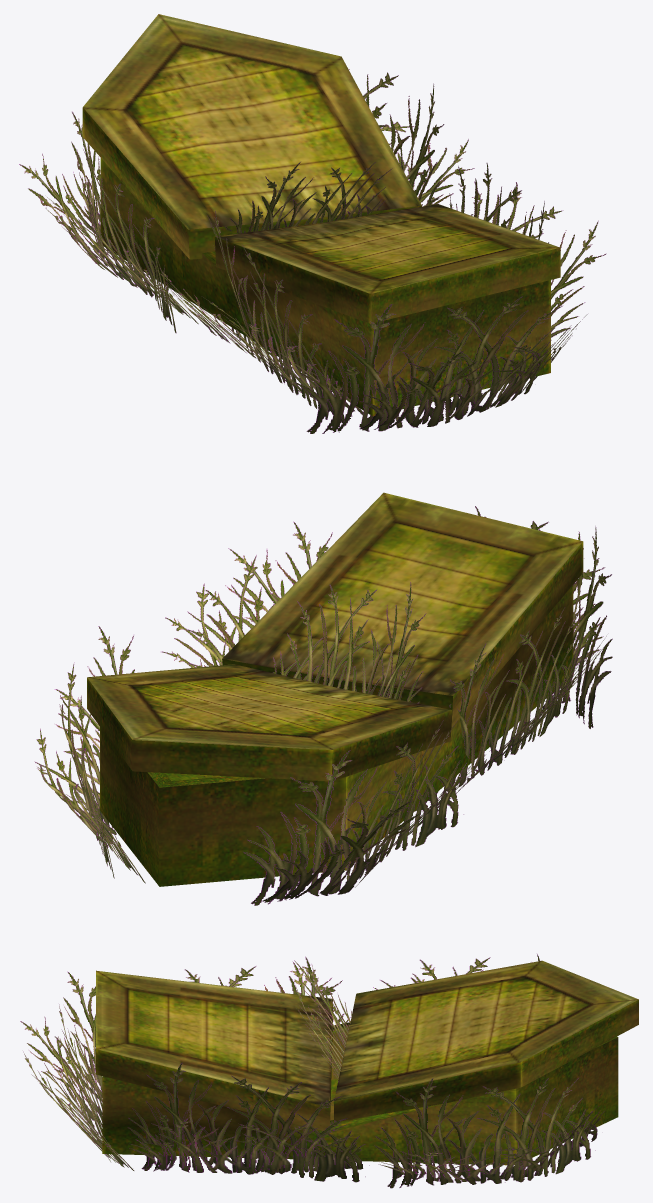
Rendered from a_SWCtomb06_01.glb.
3 renders of one model, top to bottom at view 1: azimuth 30°, elevation 25°; view 2: azimuth 150°, elevation 25°; view 3: azimuth 270°, elevation 25°, orthographic. The views are drawn at different scales.
Visible parts, largest first — view 1: a_SWCtomb06_01; view 2: a_SWCtomb06_01; view 3: a_SWCtomb06_01.
Part boxes in pixels (x1=…): a_SWCtomb06_01: x1=19, y1=14, x2=606, y2=433; a_SWCtomb06_01: x1=34, y1=492, x2=612, y2=905; a_SWCtomb06_01: x1=20, y1=954, x2=638, y2=1188.
Size of the model in its own units: 1.72 by 0.7767 by 2.68.
2 materials, 2 textured.
